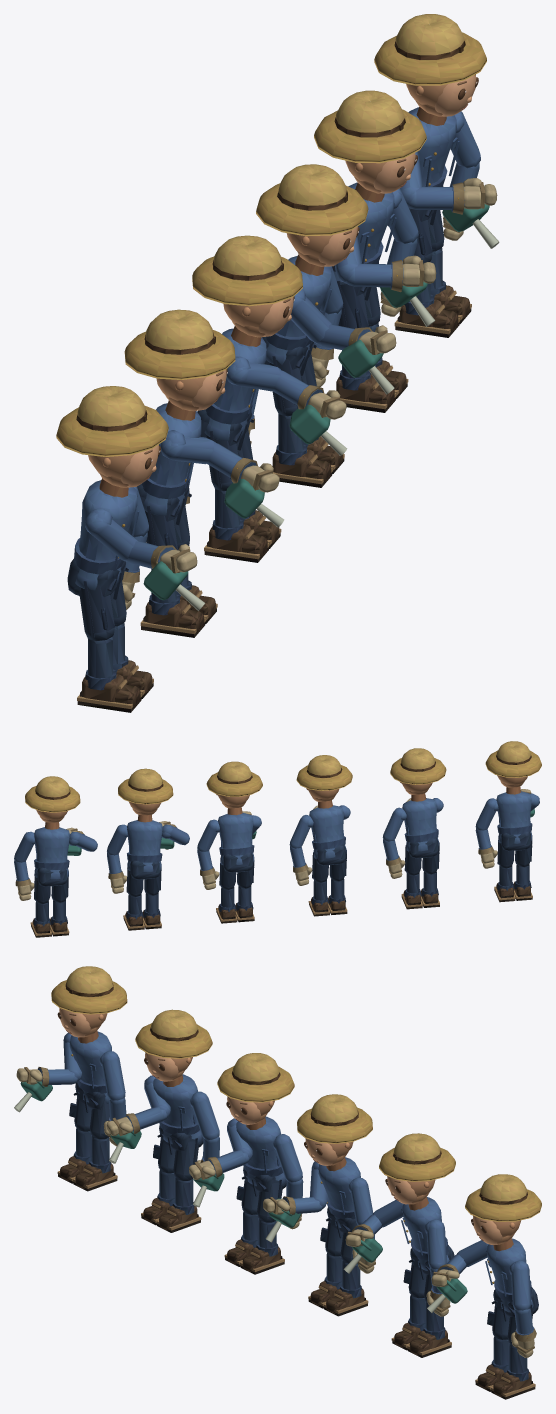
File: audit-hf-player-farmhand-water-front.glb
3 renders of one model, top to bottom at view 1: azimuth 30°, elevation 25°; view 2: azimuth 150°, elevation 25°; view 3: azimuth 270°, elevation 25°, orthographic. The views are drawn at different scales.
Visible parts, largest first — view 1: strawHat (×6), denimJacketTorso (×6), rightShin (×6), head (×6), rightHandMesh (×6), rightUpperArm (×4), wateringCanBody (×4), rightThigh (×3), leftShin (×2), rightLowerArm (×2), leftUpperArm (×2), trouserHips; view 2: denimJacketTorso (×6), strawHat (×6), leftShin (×6), rightShin (×6), trouserHips (×6), leftUpperArm (×6), leftThigh (×6), rightThigh (×6), leftHandMesh (×6), head (×6), leftLowerArm (×4), rightUpperArm (×2); view 3: strawHat (×6), denimJacketTorso (×6), leftShin (×6), rightShin (×6), head (×6), leftUpperArm (×6), rightThigh (×5), leftThigh (×3), rightHandMesh (×2), rightUpperArm (×2).
Boxes of the visible parts, <box> form: strawHat (×6): <box>56,14,486,456</box>; denimJacketTorso (×6): <box>74,107,459,590</box>; rightShin (×6): <box>77,283,459,712</box>; head (×6): <box>88,74,478,487</box>; rightHandMesh (×6): <box>150,178,497,573</box>; rightUpperArm (×4): <box>85,289,331,561</box>; wateringCanBody (×4): <box>143,340,383,600</box>; rightThigh (×3): <box>79,281,368,640</box>; leftShin (×2): <box>112,248,471,698</box>; rightLowerArm (×2): <box>345,185,464,289</box>; leftUpperArm (×2): <box>389,111,480,243</box>; trouserHips: <box>67,557,128,599</box>; denimJacketTorso (×6): <box>34,786,532,879</box>; strawHat (×6): <box>25,741,541,812</box>; leftShin (×6): <box>30,866,515,937</box>; rightShin (×6): <box>50,864,532,936</box>; trouserHips (×6): <box>37,831,531,886</box>; leftUpperArm (×6): <box>14,798,498,862</box>; leftThigh (×6): <box>34,838,514,903</box>; rightThigh (×6): <box>51,835,532,902</box>; leftHandMesh (×6): <box>15,846,497,900</box>; head (×6): <box>36,775,527,822</box>; leftLowerArm (×4): <box>197,828,491,870</box>; rightUpperArm (×2): <box>69,824,189,851</box>; strawHat (×6): <box>51,966,541,1221</box>; denimJacketTorso (×6): <box>69,1031,533,1312</box>; leftShin (×6): <box>73,1136,535,1399</box>; rightShin (×6): <box>57,1128,509,1391</box>; head (×6): <box>57,1008,520,1244</box>; leftUpperArm (×6): <box>99,1051,531,1310</box>; rightThigh (×5): <box>153,1138,509,1339</box>; leftThigh (×3): <box>90,1101,282,1222</box>; rightHandMesh (×2): <box>106,1113,222,1179</box>; rightUpperArm (×2): <box>372,1200,488,1266</box>.
Size of what is drawn, in the model's own units: 6.05 by 2.4 by 5.52.
